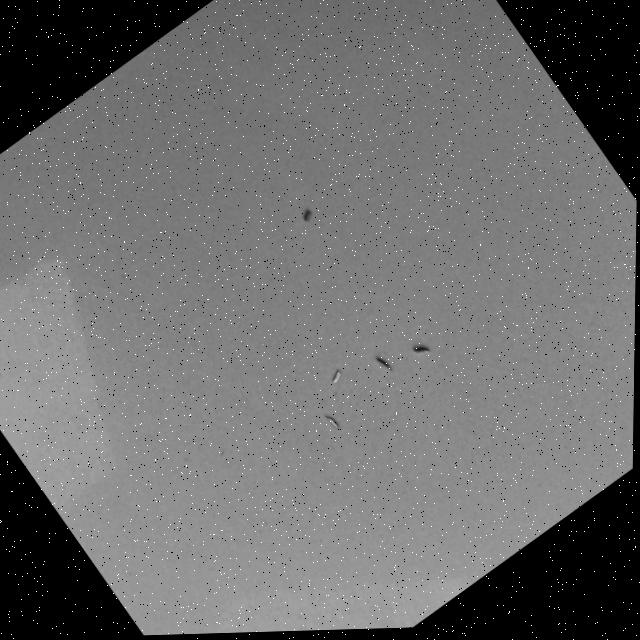Wereng: (405, 333, 436, 365), (368, 345, 397, 379), (320, 408, 345, 437), (321, 363, 347, 390), (293, 200, 318, 227)
